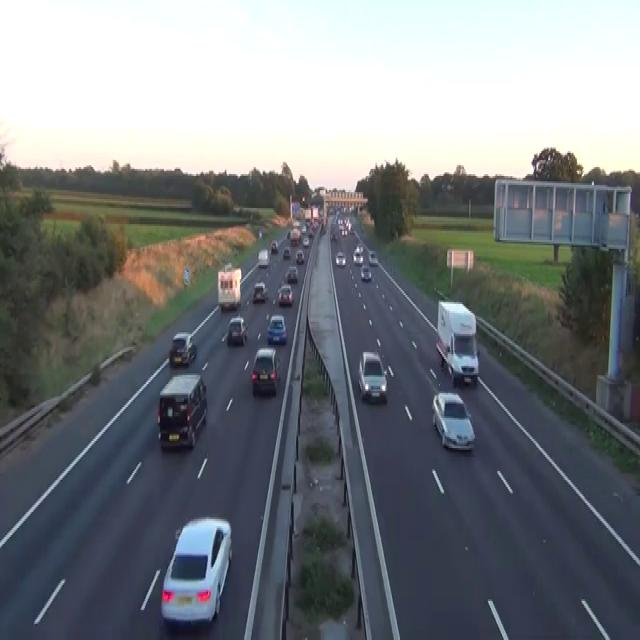Car: (160, 516, 232, 626), (431, 391, 475, 452), (357, 350, 387, 402), (251, 346, 280, 396), (169, 331, 196, 366), (227, 315, 248, 345), (266, 315, 286, 343), (278, 282, 293, 306), (252, 281, 268, 302), (257, 249, 269, 267), (290, 228, 301, 245), (335, 250, 346, 266), (360, 265, 371, 281), (287, 265, 298, 281), (368, 251, 378, 265), (353, 251, 363, 265), (295, 249, 304, 263), (270, 240, 278, 252), (282, 247, 290, 258), (320, 222, 326, 235), (302, 237, 309, 247), (293, 220, 300, 230), (340, 226, 347, 236), (355, 244, 363, 252), (446, 182, 454, 190), (224, 262, 232, 270), (330, 231, 336, 240), (301, 224, 306, 233), (258, 228, 262, 238), (308, 230, 313, 237), (286, 230, 290, 238), (349, 226, 353, 233)
Truck: (435, 298, 479, 386), (157, 372, 207, 449), (217, 263, 241, 311)
